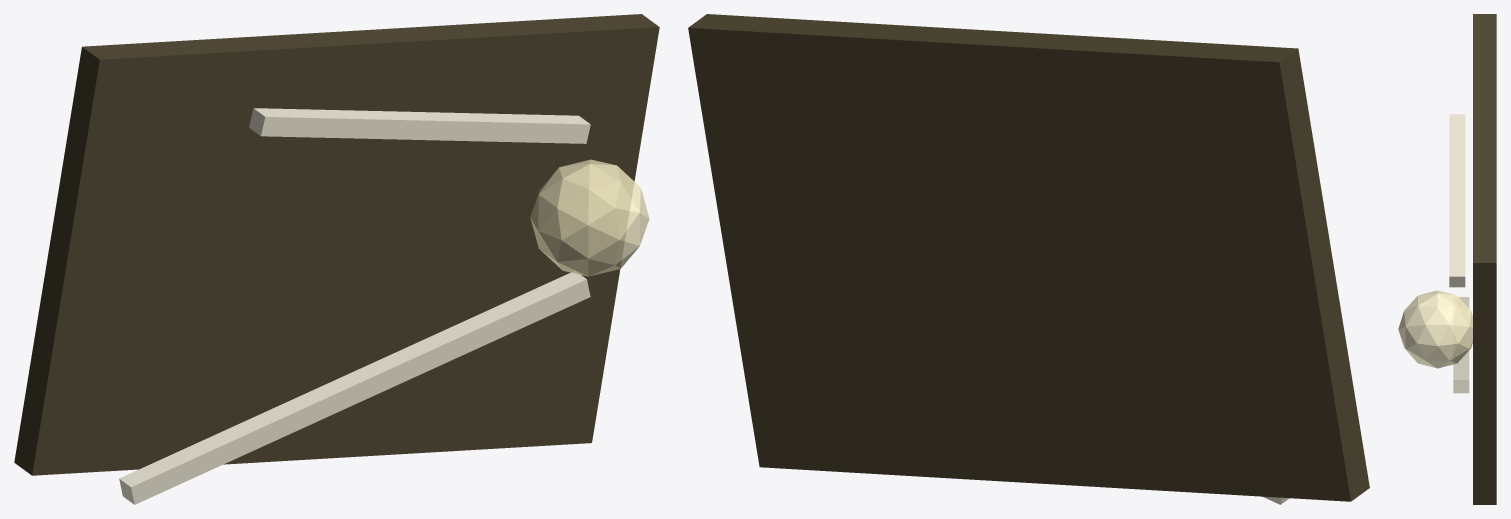
Rendered from 02_world_prop_polish.glb.
3 views of the same model, side by side, from view 1: azimuth 30°, elevation 25°; view 2: azimuth 150°, elevation 25°; view 3: azimuth 270°, elevation 25° (orthographic). The views are drawn at different scales.
Visible parts, largest first — view 1: object_overlay_plate, edge_wear_a, glow_socket, edge_wear_b; view 2: object_overlay_plate; view 3: object_overlay_plate, glow_socket, edge_wear_b, edge_wear_a.
Part boxes in pixels (x1,y1,x2,y2): object_overlay_plate: (14,14,659,475); edge_wear_a: (119,271,590,504); glow_socket: (530,159,649,276); edge_wear_b: (249,108,590,143); object_overlay_plate: (688,14,1369,501); object_overlay_plate: (1473,14,1496,504); glow_socket: (1398,290,1472,368); edge_wear_b: (1449,114,1465,287); edge_wear_a: (1453,297,1469,393).
Size of the model in its own units: 1.21 by 0.9306 by 0.25.
